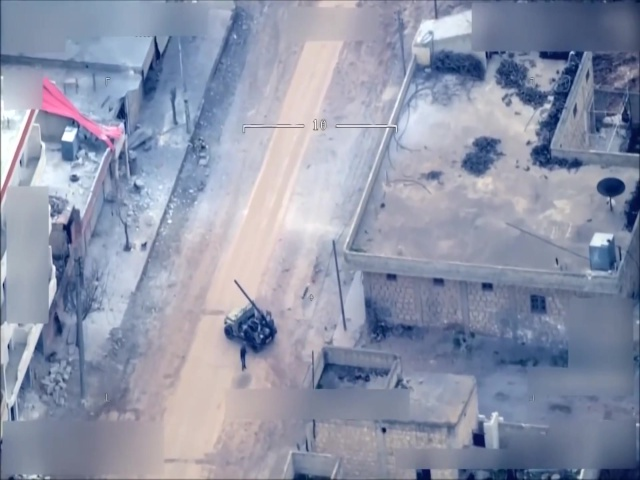person: (238, 340, 249, 371)
vehicle: (223, 301, 278, 351)
